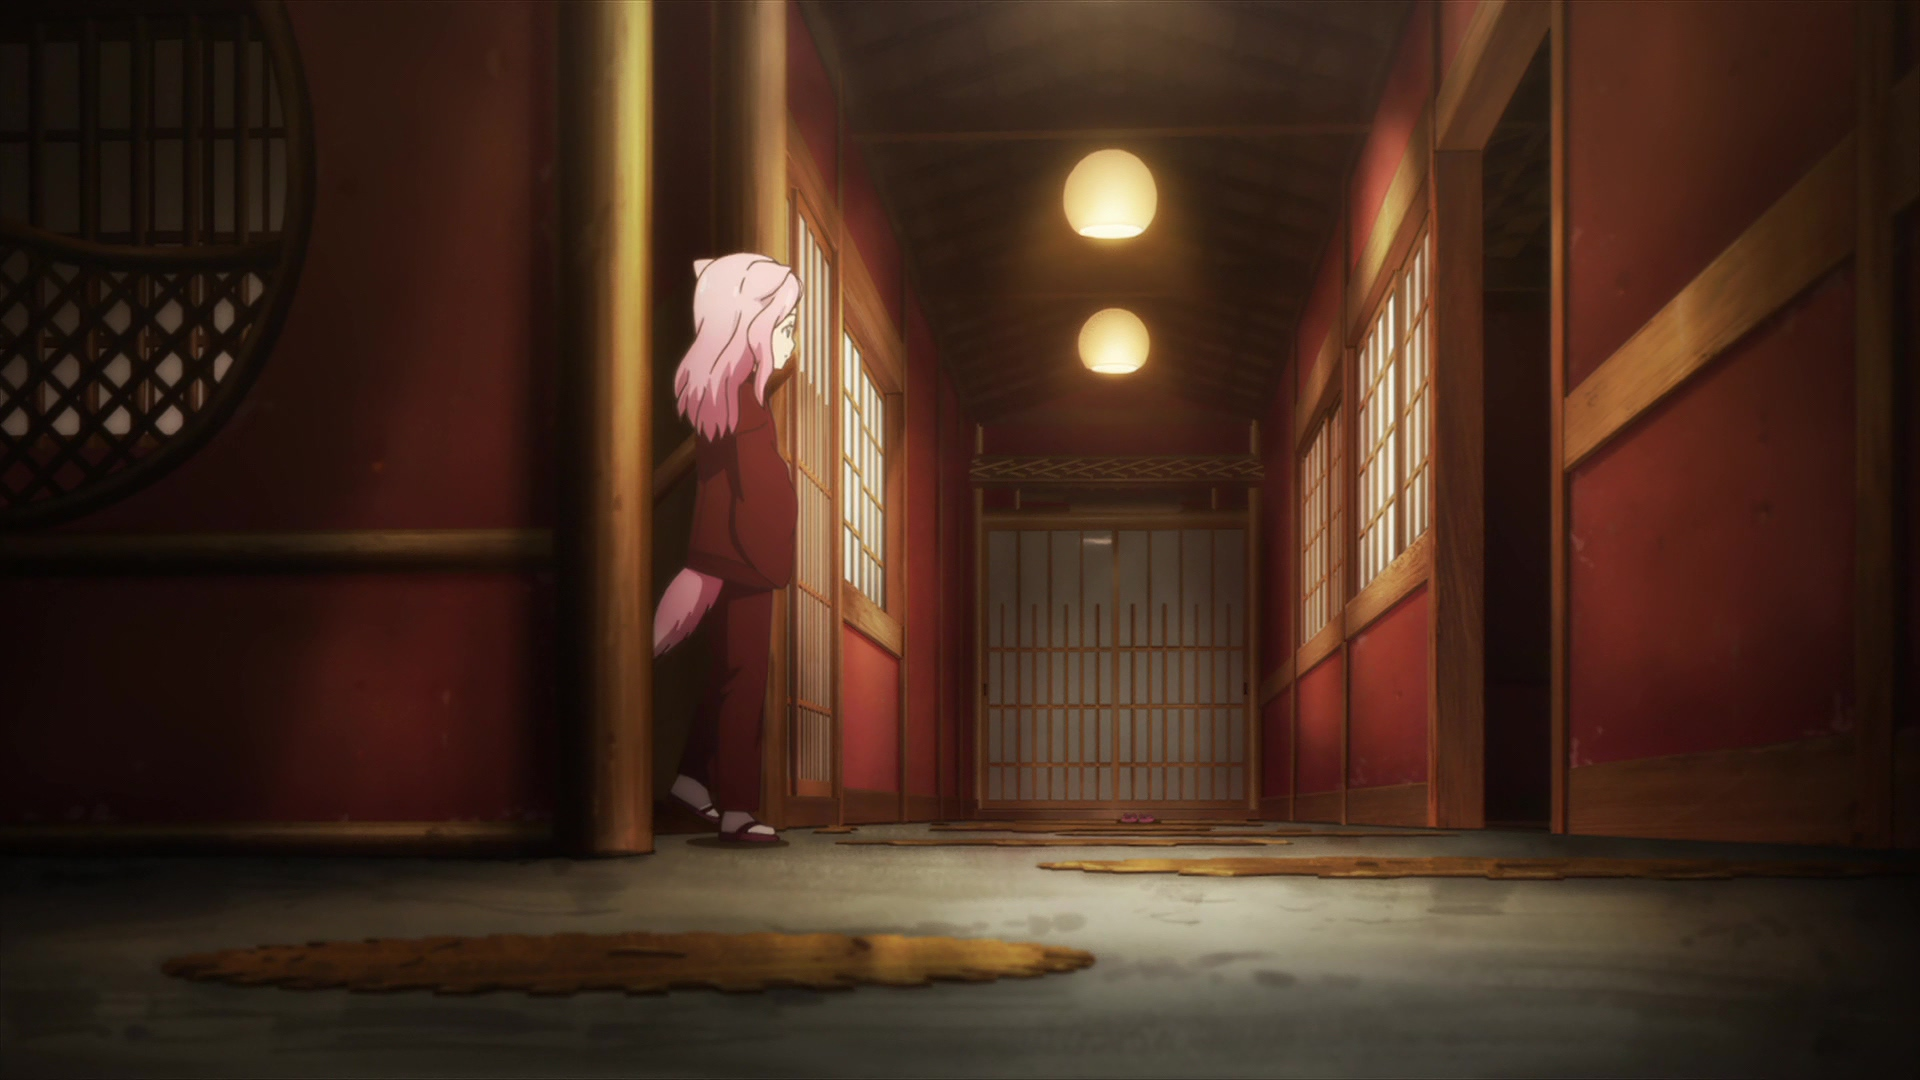莲: (655, 253, 800, 849)
